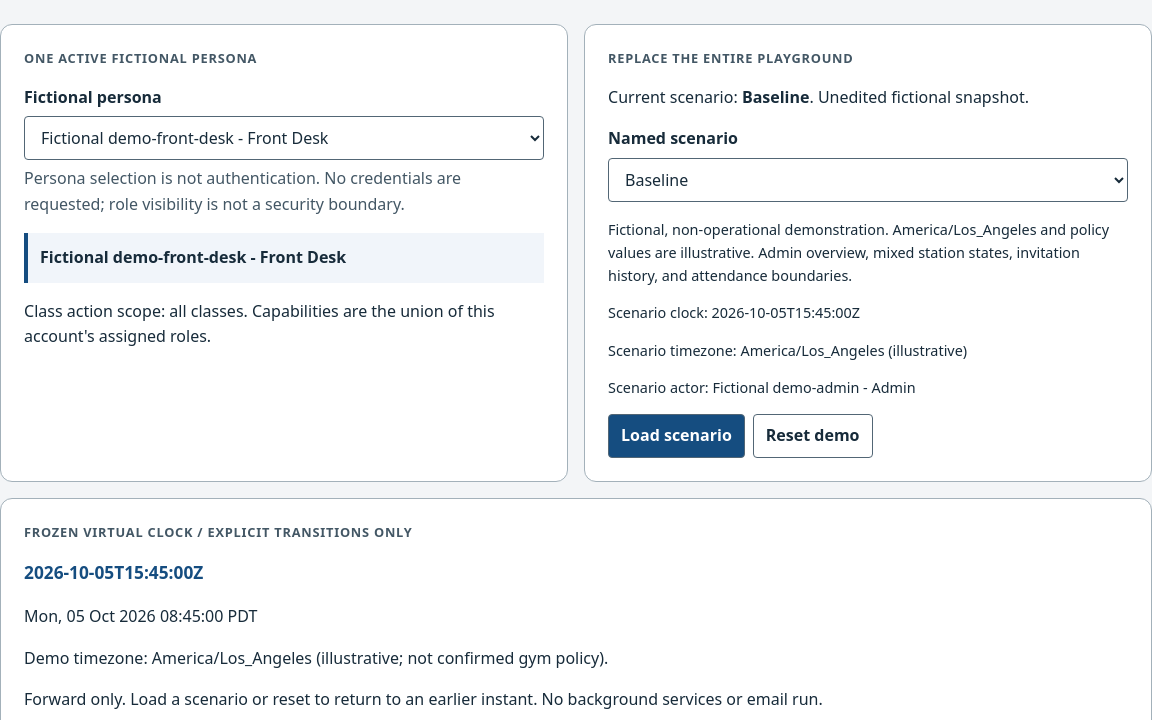
Scenario: composed demo shell › explains read-only schedules, assigned-class scope, and direct-route denial
Step 1. Select "Fictional Coach Indigo - Coach" in the dropdown labelled "Fictional persona" → (284, 138), box 24,116 -> 544,160
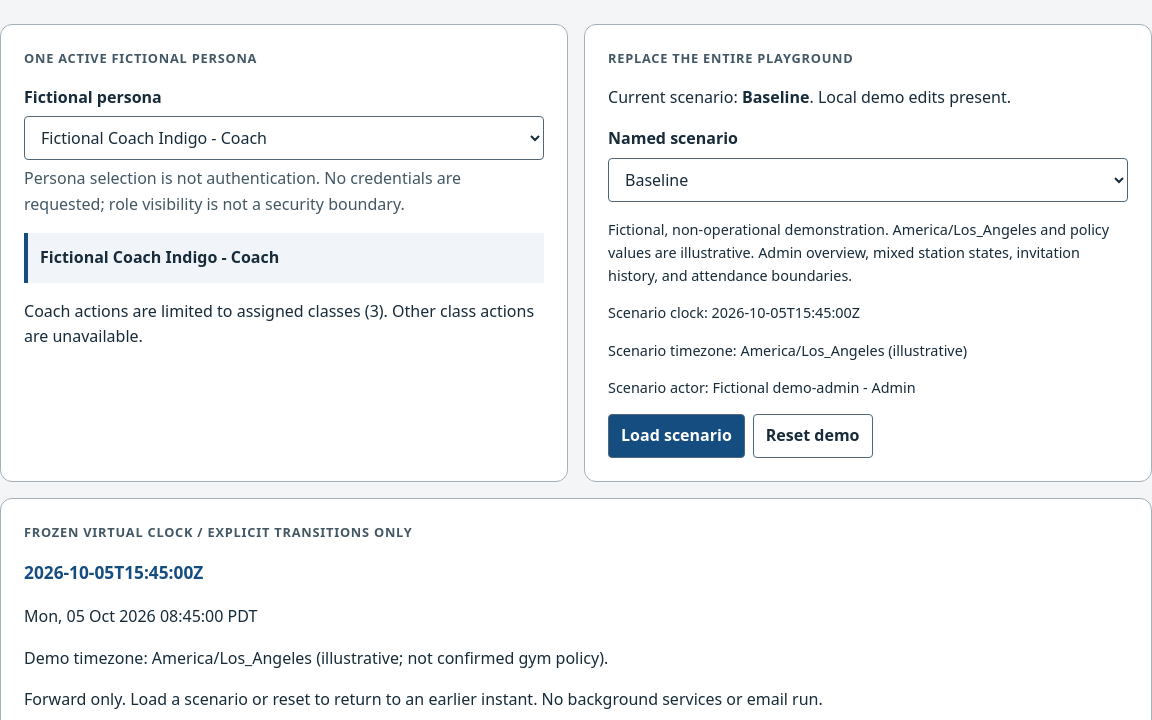
Now the text "Coach actions are limited to assigned classes" is shown, box 24,300 -> 370,322
Step 2. Select "Fictional demo-inactive - Front Desk (inactive)" in the dropdown labelled "Fictional persona" → (284, 138), box 24,116 -> 544,160
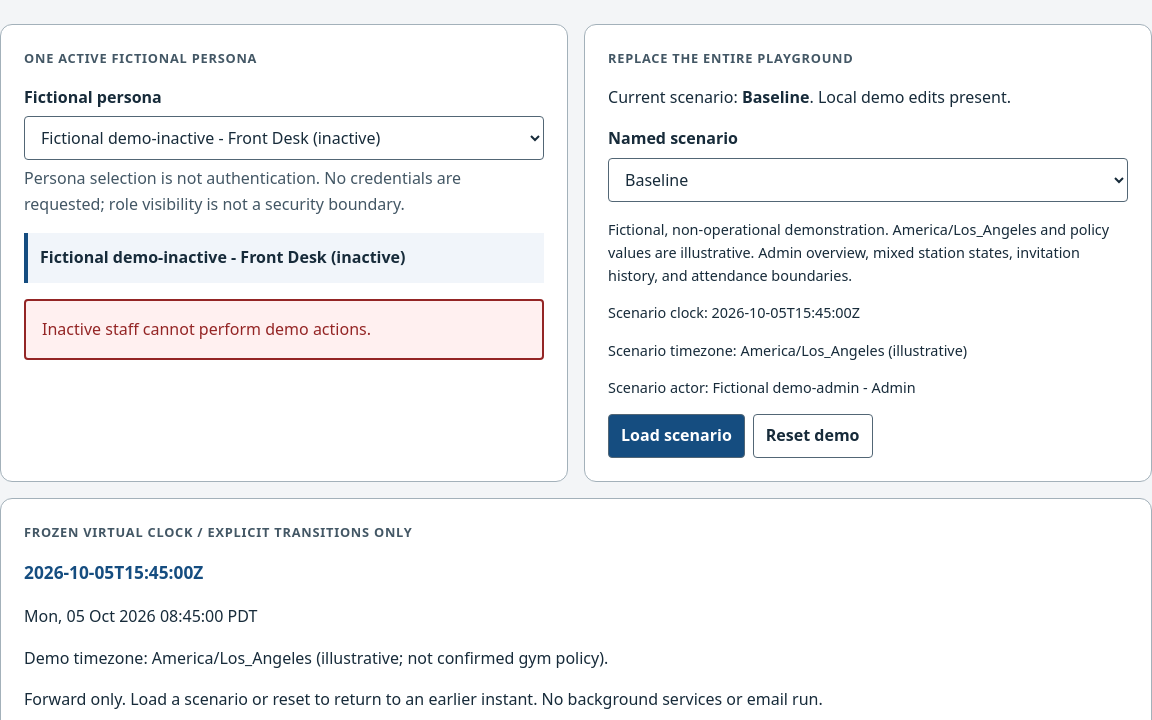
Now the text "Inactive staff cannot perform demo actions." is shown, box 42,318 -> 371,340
